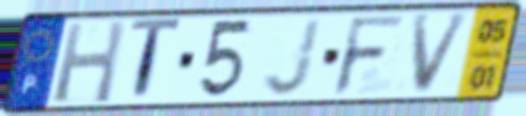5: (195, 17, 258, 102)
F: (329, 13, 409, 99)
H: (50, 18, 129, 106)
J: (261, 16, 325, 99)
T: (127, 16, 185, 106)
V: (410, 10, 475, 98)
